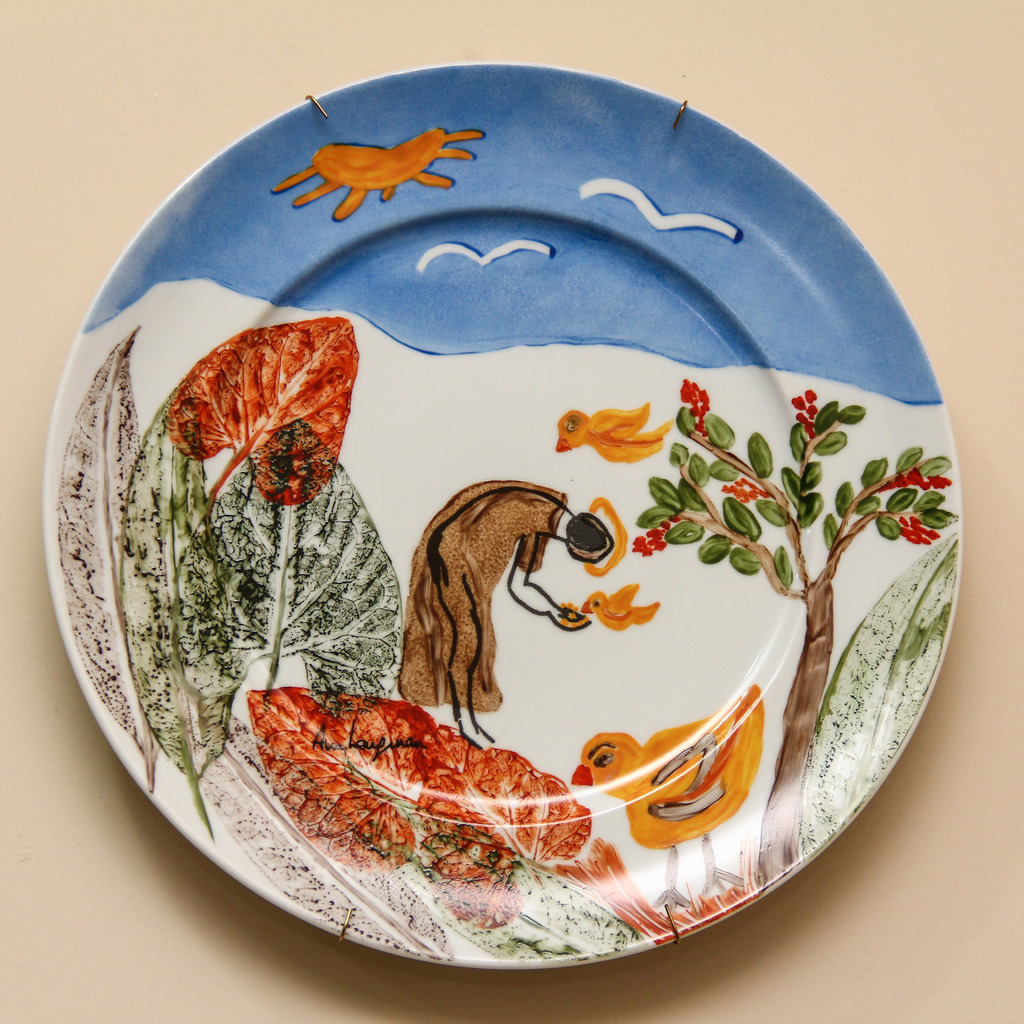plate: (42, 61, 960, 971)
